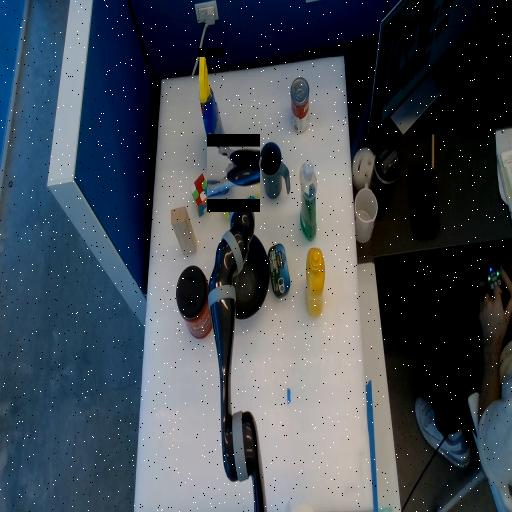bowl: (218, 232, 268, 318)
cleanser: (300, 162, 316, 241)
coffee_can: (176, 267, 214, 338)
jaco: (207, 147, 260, 199)
meat_can: (267, 261, 289, 282)
mug: (259, 143, 289, 199)
mustard_bottle: (306, 249, 324, 317)
rubik: (190, 174, 212, 217)
soup_can: (290, 97, 308, 115)
tennis_ball: (221, 195, 238, 212)
windex: (197, 96, 225, 118)
wooden_block: (171, 208, 195, 254)
workspace: (135, 57, 372, 509)
